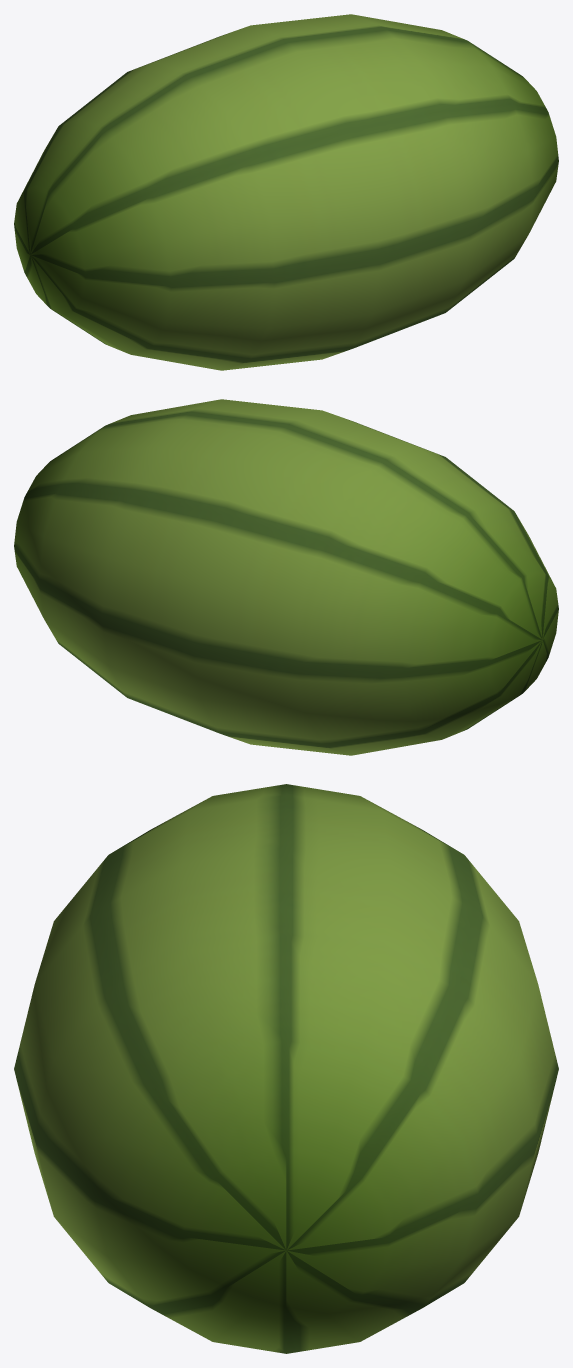
Rendered from Seed_01.fbx.
The picture shows the model from 3 angles, top to bottom: view 1: azimuth 30°, elevation 25°; view 2: azimuth 150°, elevation 25°; view 3: azimuth 270°, elevation 25°; orthographic projection. The views are drawn at different scales.
Visible parts, largest first — view 1: Sphere004; view 2: Sphere004; view 3: Sphere004.
Boxes of the visible parts, bbox=[...] form: Sphere004: bbox=[14, 14, 558, 370]; Sphere004: bbox=[14, 399, 558, 755]; Sphere004: bbox=[14, 784, 558, 1353].
Size of the model in its own units: 17.68 by 10.05 by 11.21.
Materials: 1 (1 with a texture image).
